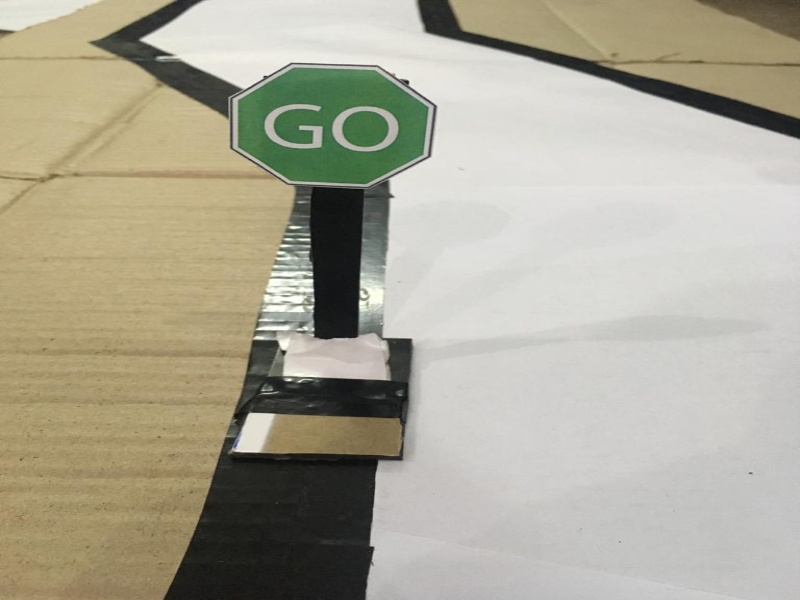Go: (216, 53, 441, 195)
